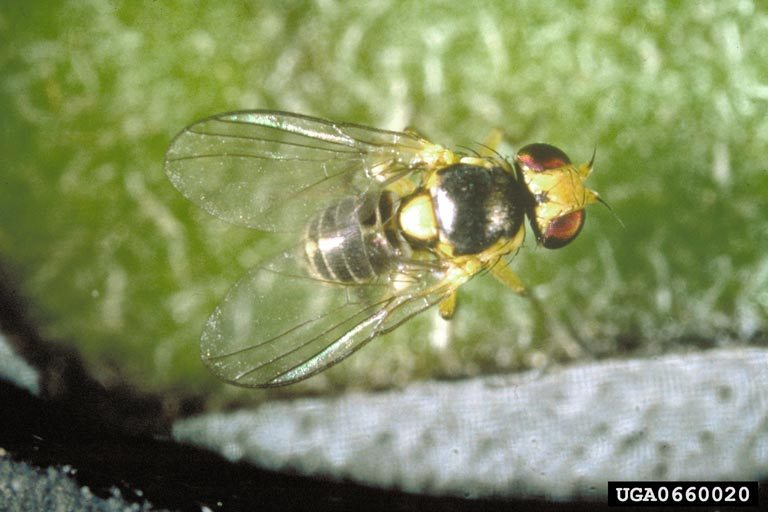Trifoli: (122, 84, 623, 394)
